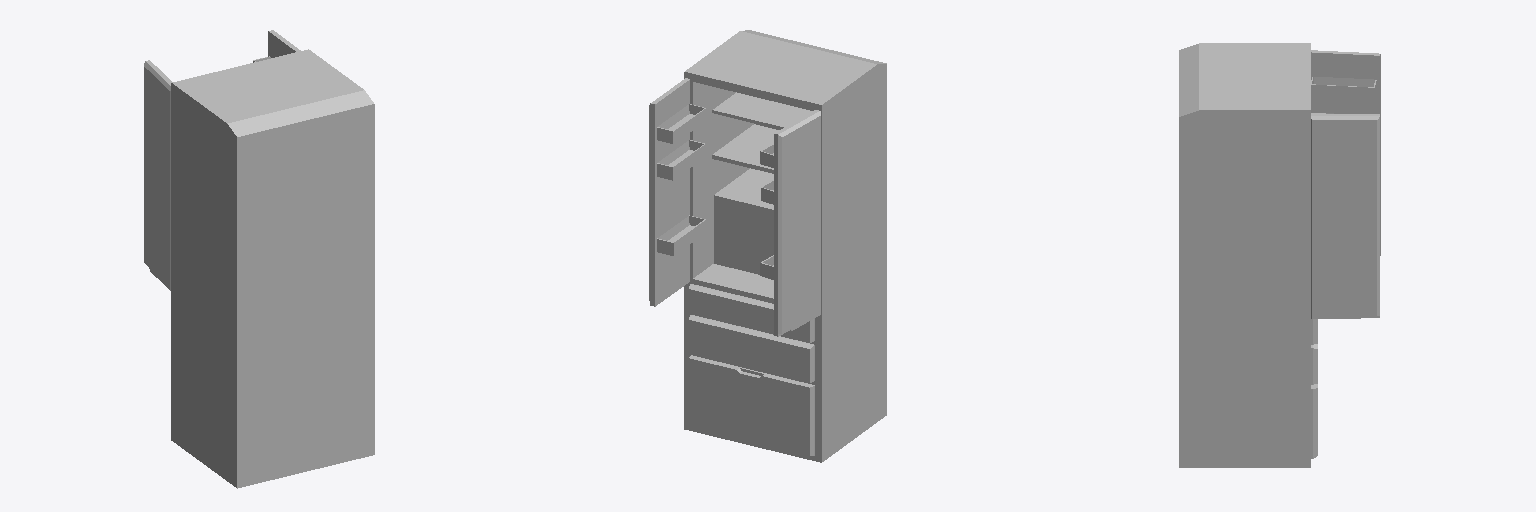
Rendered from refrigerator11.obj.
3 renders of one model, left to right at view 1: azimuth 30°, elevation 25°; view 2: azimuth 150°, elevation 25°; view 3: azimuth 270°, elevation 25°, orthographic.
Visible parts, largest first — view 1: Refrigerator.001; view 2: Refrigerator.001; view 3: Refrigerator.001.
Part boxes in pixels (left/top/right/bottom): Refrigerator.001: left=144, top=30, right=374, bottom=488; Refrigerator.001: left=649, top=30, right=886, bottom=462; Refrigerator.001: left=1179, top=43, right=1380, bottom=467.
Size of the model in its own units: 1.63 by 3.99 by 2.04.